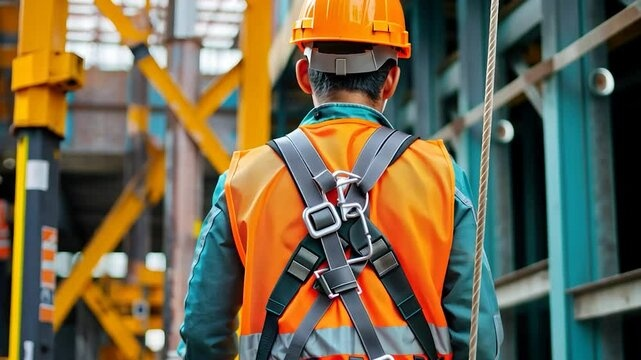Helmet: (286, 0, 412, 72)
Person: (222, 0, 459, 360)
Safety_Harness: (237, 122, 452, 360)
